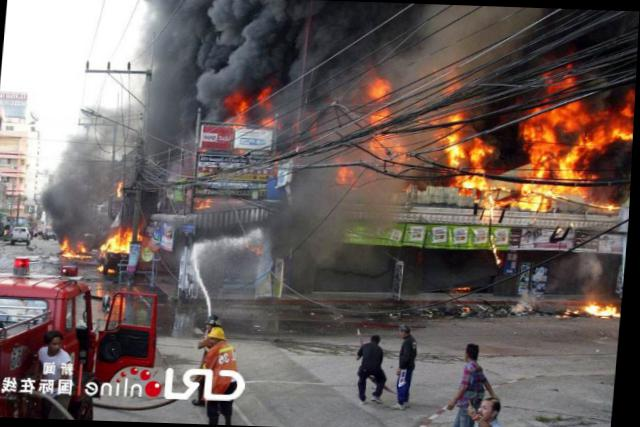fire: (322, 64, 636, 226), (217, 78, 293, 142), (56, 218, 150, 266), (569, 294, 625, 321)
